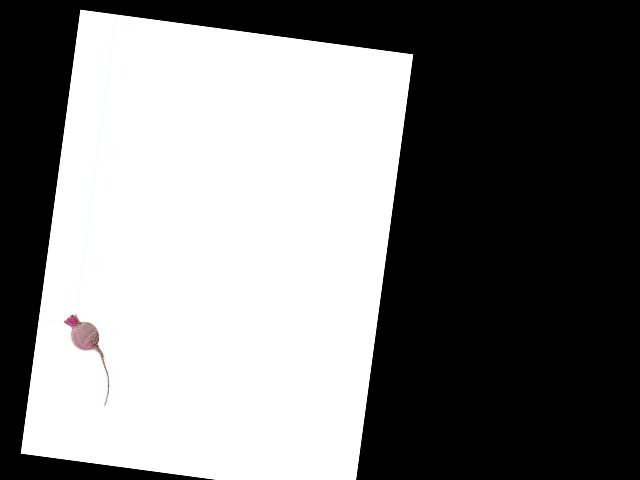beet: (53, 313, 118, 407)
